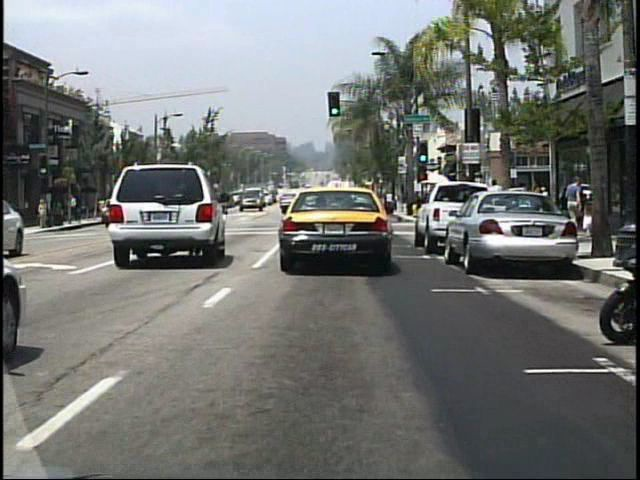person: (527, 177, 548, 236), (565, 173, 586, 228), (581, 195, 595, 235), (38, 196, 50, 231), (70, 191, 82, 223)
